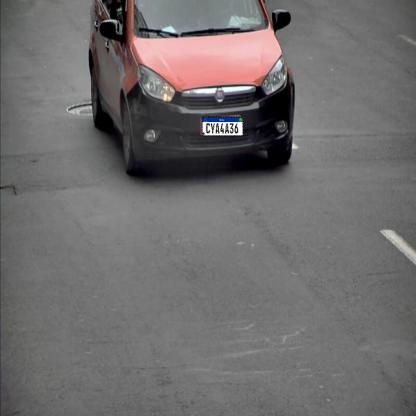PlacaM: (202, 116, 243, 136)
